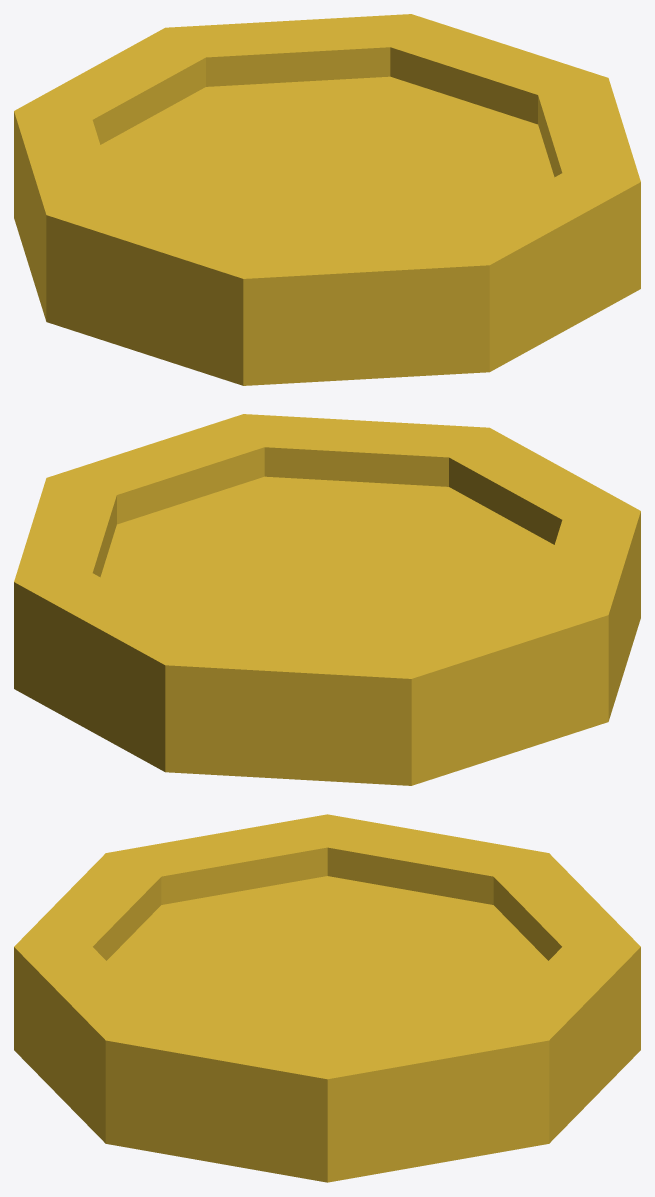
File: GOLD coin.fbx
The picture shows the model from 3 angles, top to bottom: view 1: azimuth 30°, elevation 25°; view 2: azimuth 150°, elevation 25°; view 3: azimuth 270°, elevation 25°; orthographic projection. The views are drawn at different scales.
Visible parts, largest first — view 1: Cylinder; view 2: Cylinder; view 3: Cylinder.
Boxes of the visible parts, bbox=[...] form: Cylinder: bbox=[14, 14, 640, 385]; Cylinder: bbox=[14, 414, 640, 785]; Cylinder: bbox=[14, 814, 640, 1182].
Size of the model in its own units: 200 by 36.38 by 200.
